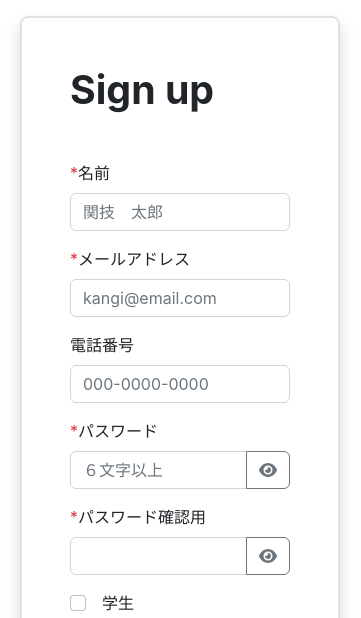
SignupForm › when password and password confirmation do not match, error is showed
The width and height of the screenshot is (361, 618).
Step 1. Type "test123" into the password field labelled "*パスワード" → (158, 470), box [70,451,247,489]
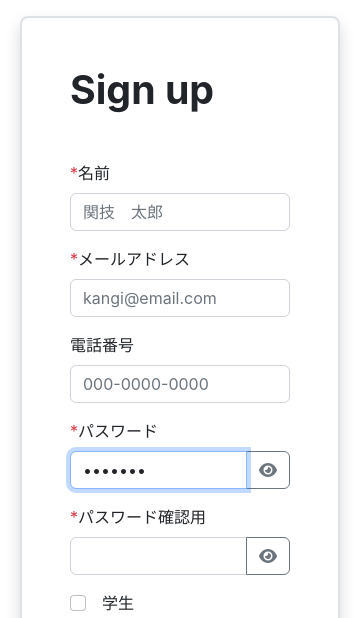
Step 2. Type "test12" into the password field labelled "*パスワード確認用" → (158, 556), box [70,537,247,575]
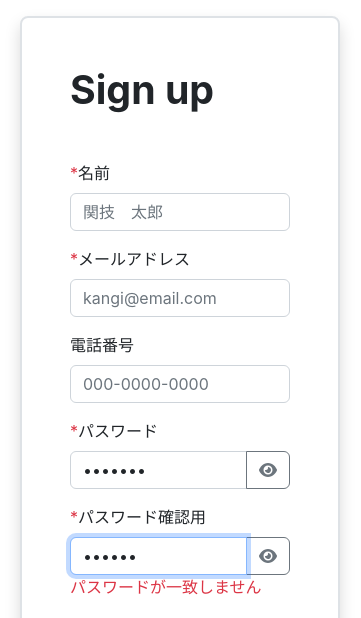
Now the text "パスワードが一致しません" is shown once, box [70,577,262,597]
Step 3. Type "3" into the password field labelled "*パスワード確認用" → (158, 556), box [70,537,247,575]
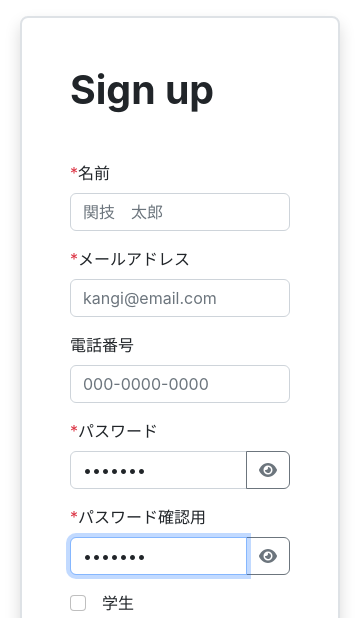
Now the text "パスワードが一致しません" is not shown
